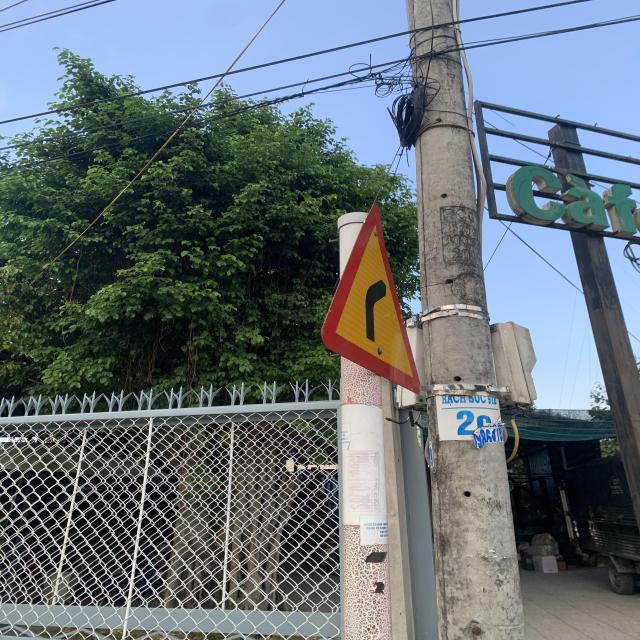Duong_Nguoi_Di_Bo_Cat_Ngang: (319, 201, 430, 394)
